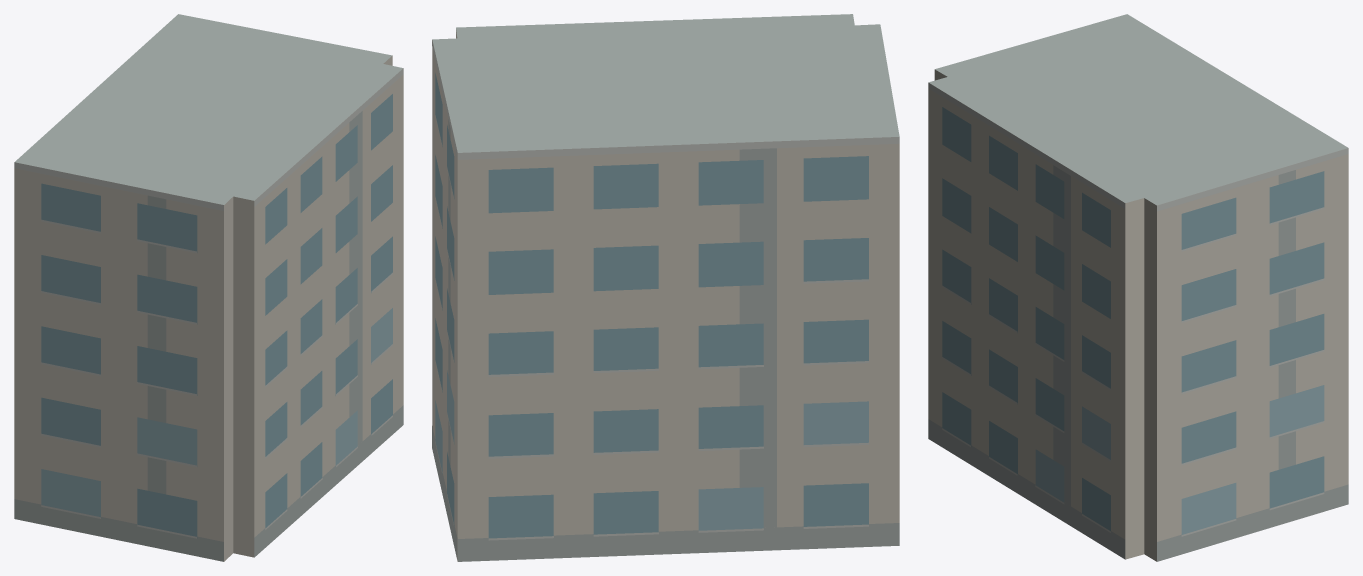
The model's file is survey-upis-32891657.glb.
3 renders of one model, left to right at view 1: azimuth 30°, elevation 25°; view 2: azimuth 150°, elevation 25°; view 3: azimuth 270°, elevation 25°, orthographic. The views are drawn at different scales.
Parts seen in each view (by area): view 1: survey-upis-32891657.tmp; view 2: survey-upis-32891657.tmp; view 3: survey-upis-32891657.tmp.
Part boxes in pixels (left/top/right/bottom): survey-upis-32891657.tmp: left=14, top=14, right=403, bottom=561; survey-upis-32891657.tmp: left=432, top=14, right=899, bottom=561; survey-upis-32891657.tmp: left=928, top=14, right=1348, bottom=561.
Size of the model in its own units: 16.61 by 14.4 by 15.4.
